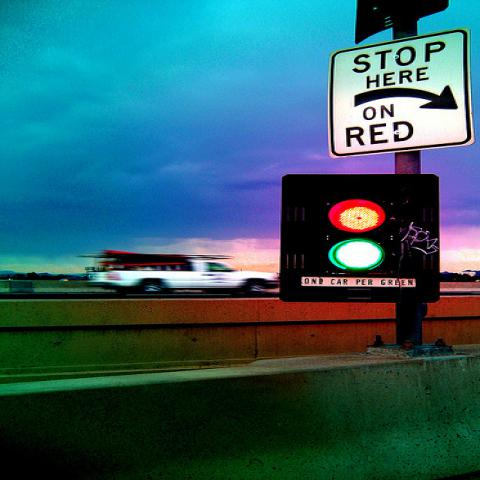truck: (84, 250, 282, 295)
